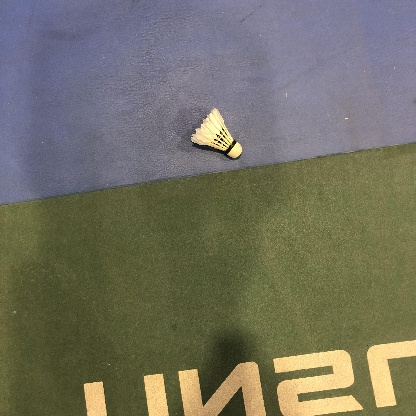ball_single: (191, 108, 242, 158)
